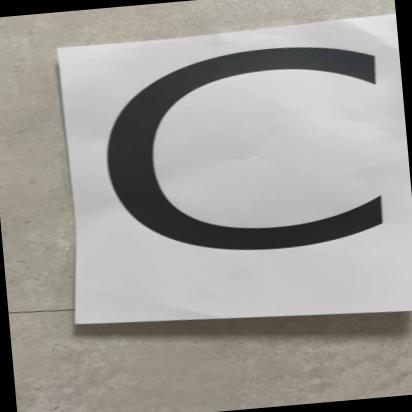seat: (31, 1, 412, 357)
